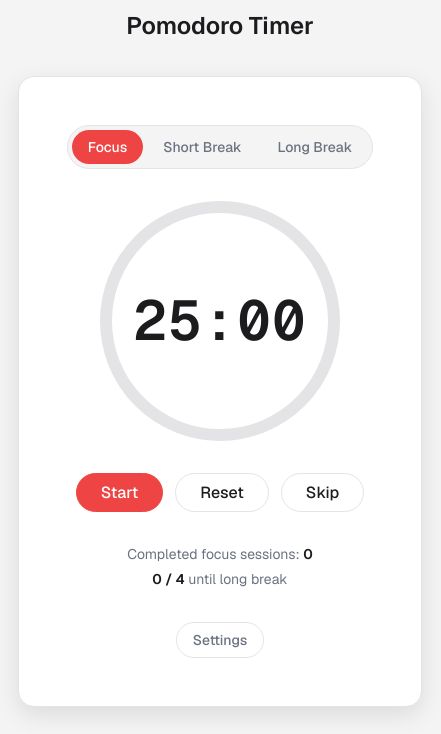
Scenario: PomodoroApp › selecting the Short Break mode shows 05:00 and stops
The image size is (441, 734).
Click the button "Short Break" at (202, 146), box [147,130,258,164]
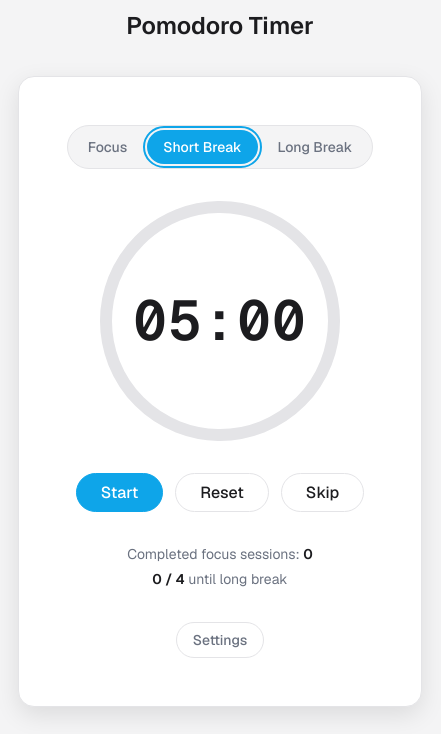
Check: the button "Start" is shown, box [76,472,163,512]
Check: the text "05:00" is shown, box [133,292,307,348]
